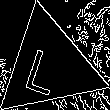L_N: (26, 37, 71, 95)
